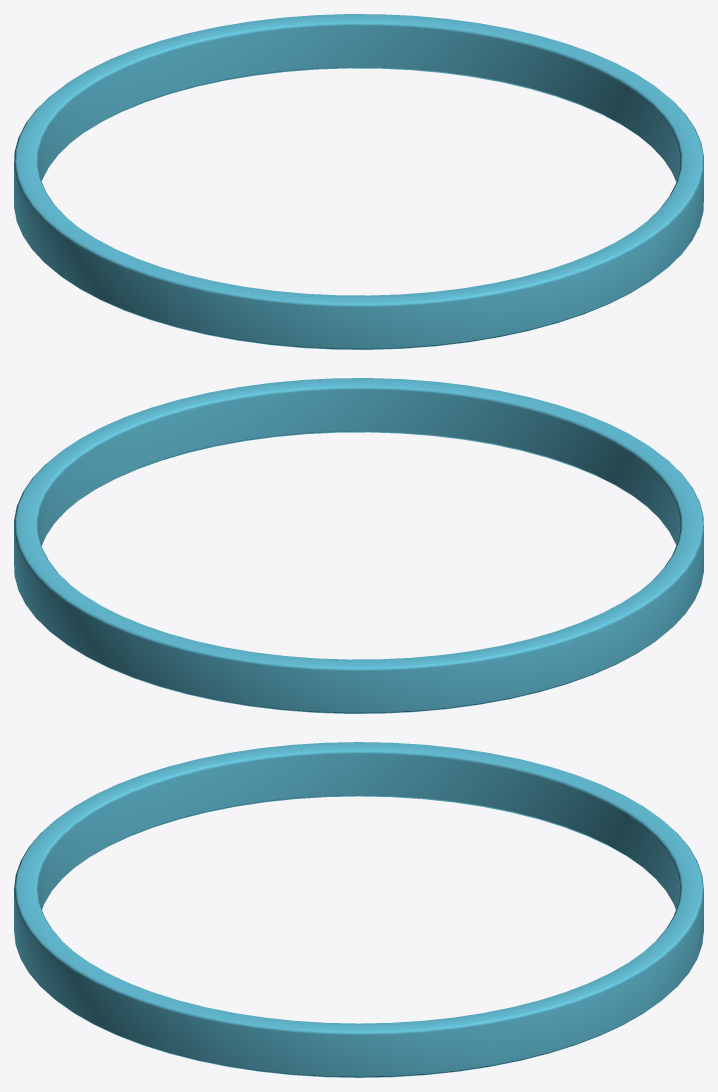
The picture shows the model from 3 angles, top to bottom: view 1: azimuth 30°, elevation 25°; view 2: azimuth 150°, elevation 25°; view 3: azimuth 270°, elevation 25°; orthographic projection.
Visible parts, largest first — view 1: seal_body; view 2: seal_body; view 3: seal_body.
Part boxes in pixels (box(x1,y1,x2,y2)): seal_body: box(14, 14, 703, 349); seal_body: box(14, 378, 703, 713); seal_body: box(14, 742, 703, 1077).
Bounding box in the file's own units: 0.072 × 0.0054 × 0.072.
